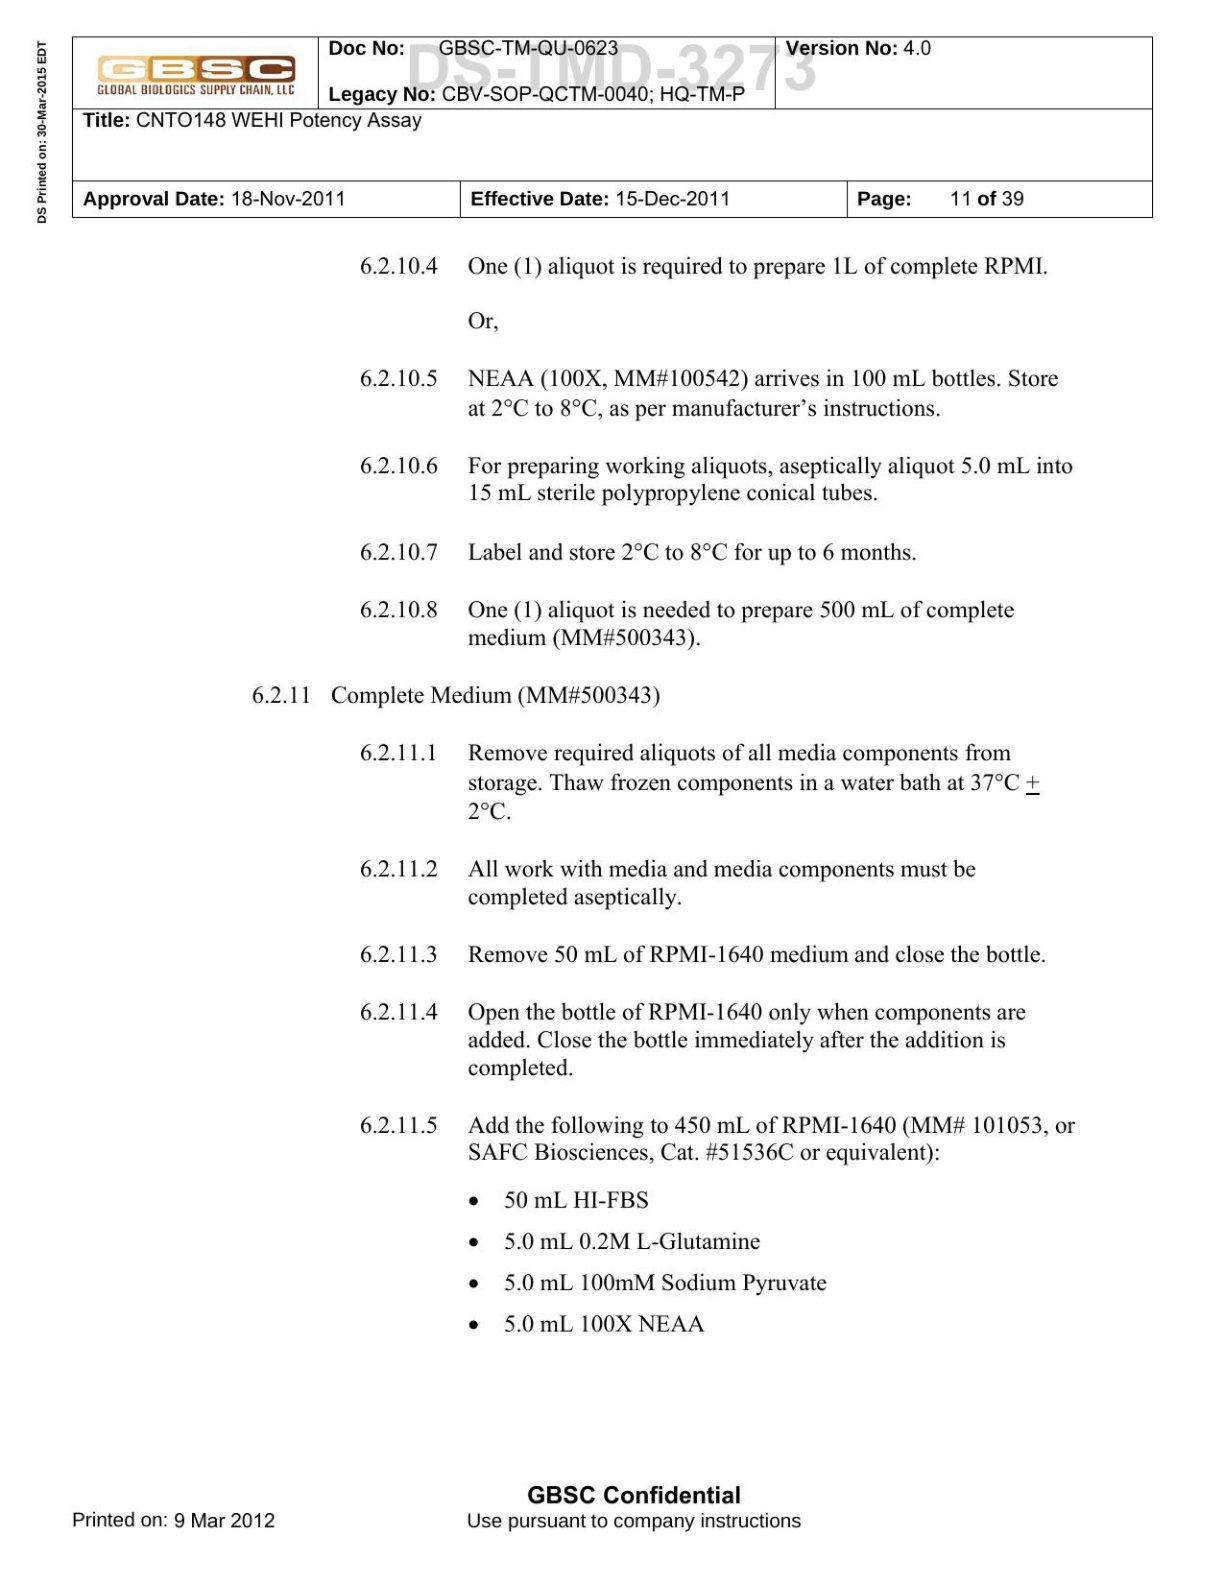merged_cells: (69, 35, 1155, 220)
nolines: (357, 737, 1077, 1336), (359, 253, 1074, 649)
